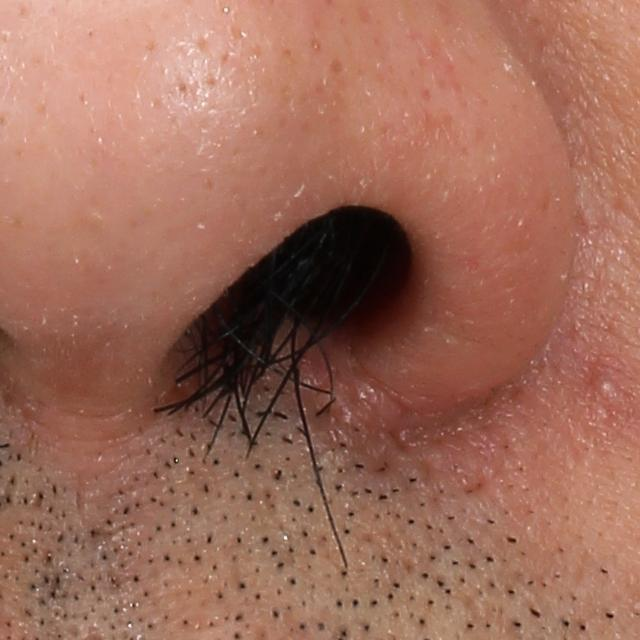pustule: (586, 374, 628, 410)
